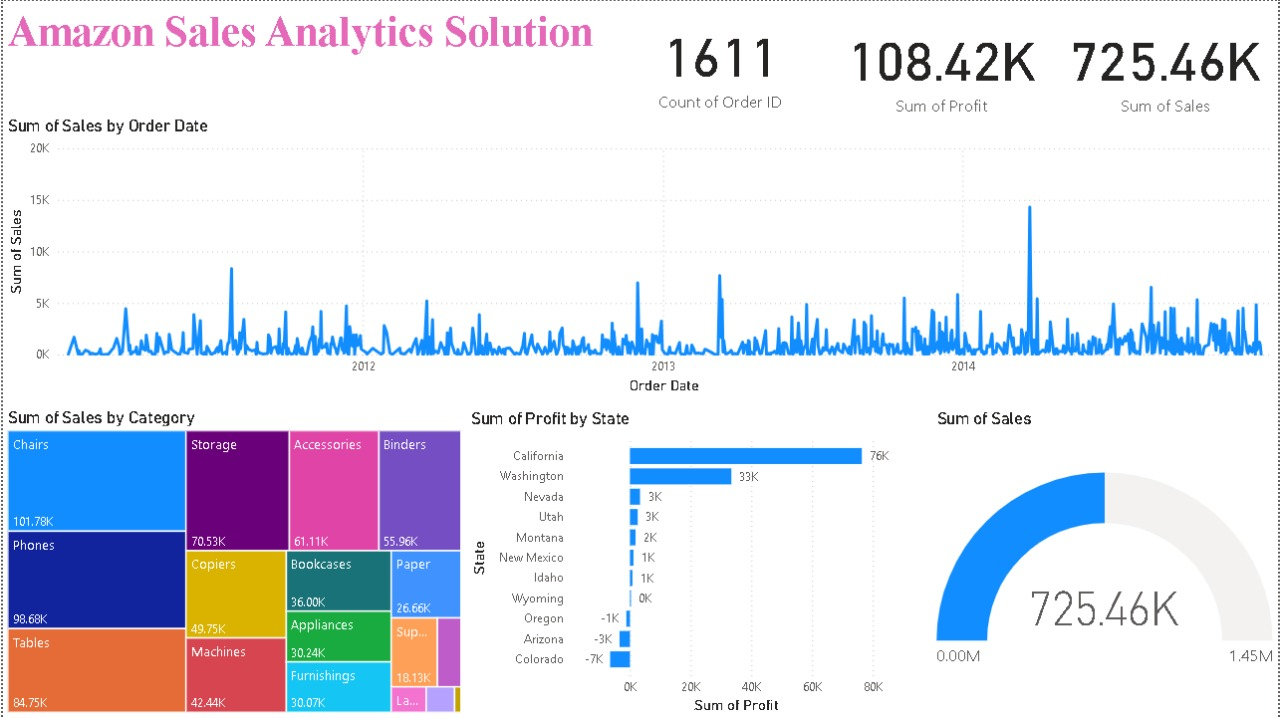

The dashboard page shown, as its layout file describes it:
{"tool":"powerbi","page":{"name":"Page 1","canvas":[1280,720],"ordinal":0},"visuals":[{"type":"card","fields":{"Values":["Sum(Walmart.Sales)"]},"box":[1053.9,0,226.4,131.7],"z":0},{"type":"card","fields":{"Values":["Sum(Walmart.Profit)"]},"box":[813.7,0,256.6,131.7],"z":1000},{"type":"card","fields":{"Values":["Count(Walmart.Order ID)"]},"box":[610.6,4.1,237.4,123.5],"z":2000},{"type":"lineChart","fields":{"Y":["Sum(Walmart.Sales)"],"Category":["Walmart.Order Date"]},"box":[0,115.3,1280.3,284],"z":3000},{"type":"clusteredBarChart","fields":{"Category":["Walmart.State"],"Y":["Sum(Walmart.Profit)"]},"box":[464.7,408.4,451.2,311.8],"z":4000},{"type":"gauge","fields":{"Y":["Sum(Walmart.Sales)"]},"box":[933,408.4,347.3,311.8],"z":5000},{"type":"textbox","box":[0,0,639.5,114.9],"z":6000},{"type":"treemap","fields":{"Group":["Walmart.Category"],"Values":["Sum(Walmart.Sales)"]},"box":[0,408,465,312],"z":7000}]}

Visuals, with their boxes in screenshot pixels (x1, y1, x2, y2), scaled from the page's 1280x720 canvas onto the 1280x718 screenshot:
card - Sum(Walmart.Sales): 1054 0 1279 131
card - Sum(Walmart.Profit): 814 0 1070 131
card - Count(Walmart.Order ID): 611 4 848 127
lineChart - Sum(Walmart.Sales) x Walmart.Order Date: 0 115 1279 398
clusteredBarChart - Walmart.State x Sum(Walmart.Profit): 465 407 916 717
gauge - Sum(Walmart.Sales): 933 407 1279 717
textbox: 0 0 640 115
treemap - Walmart.Category x Sum(Walmart.Sales): 0 407 465 717
